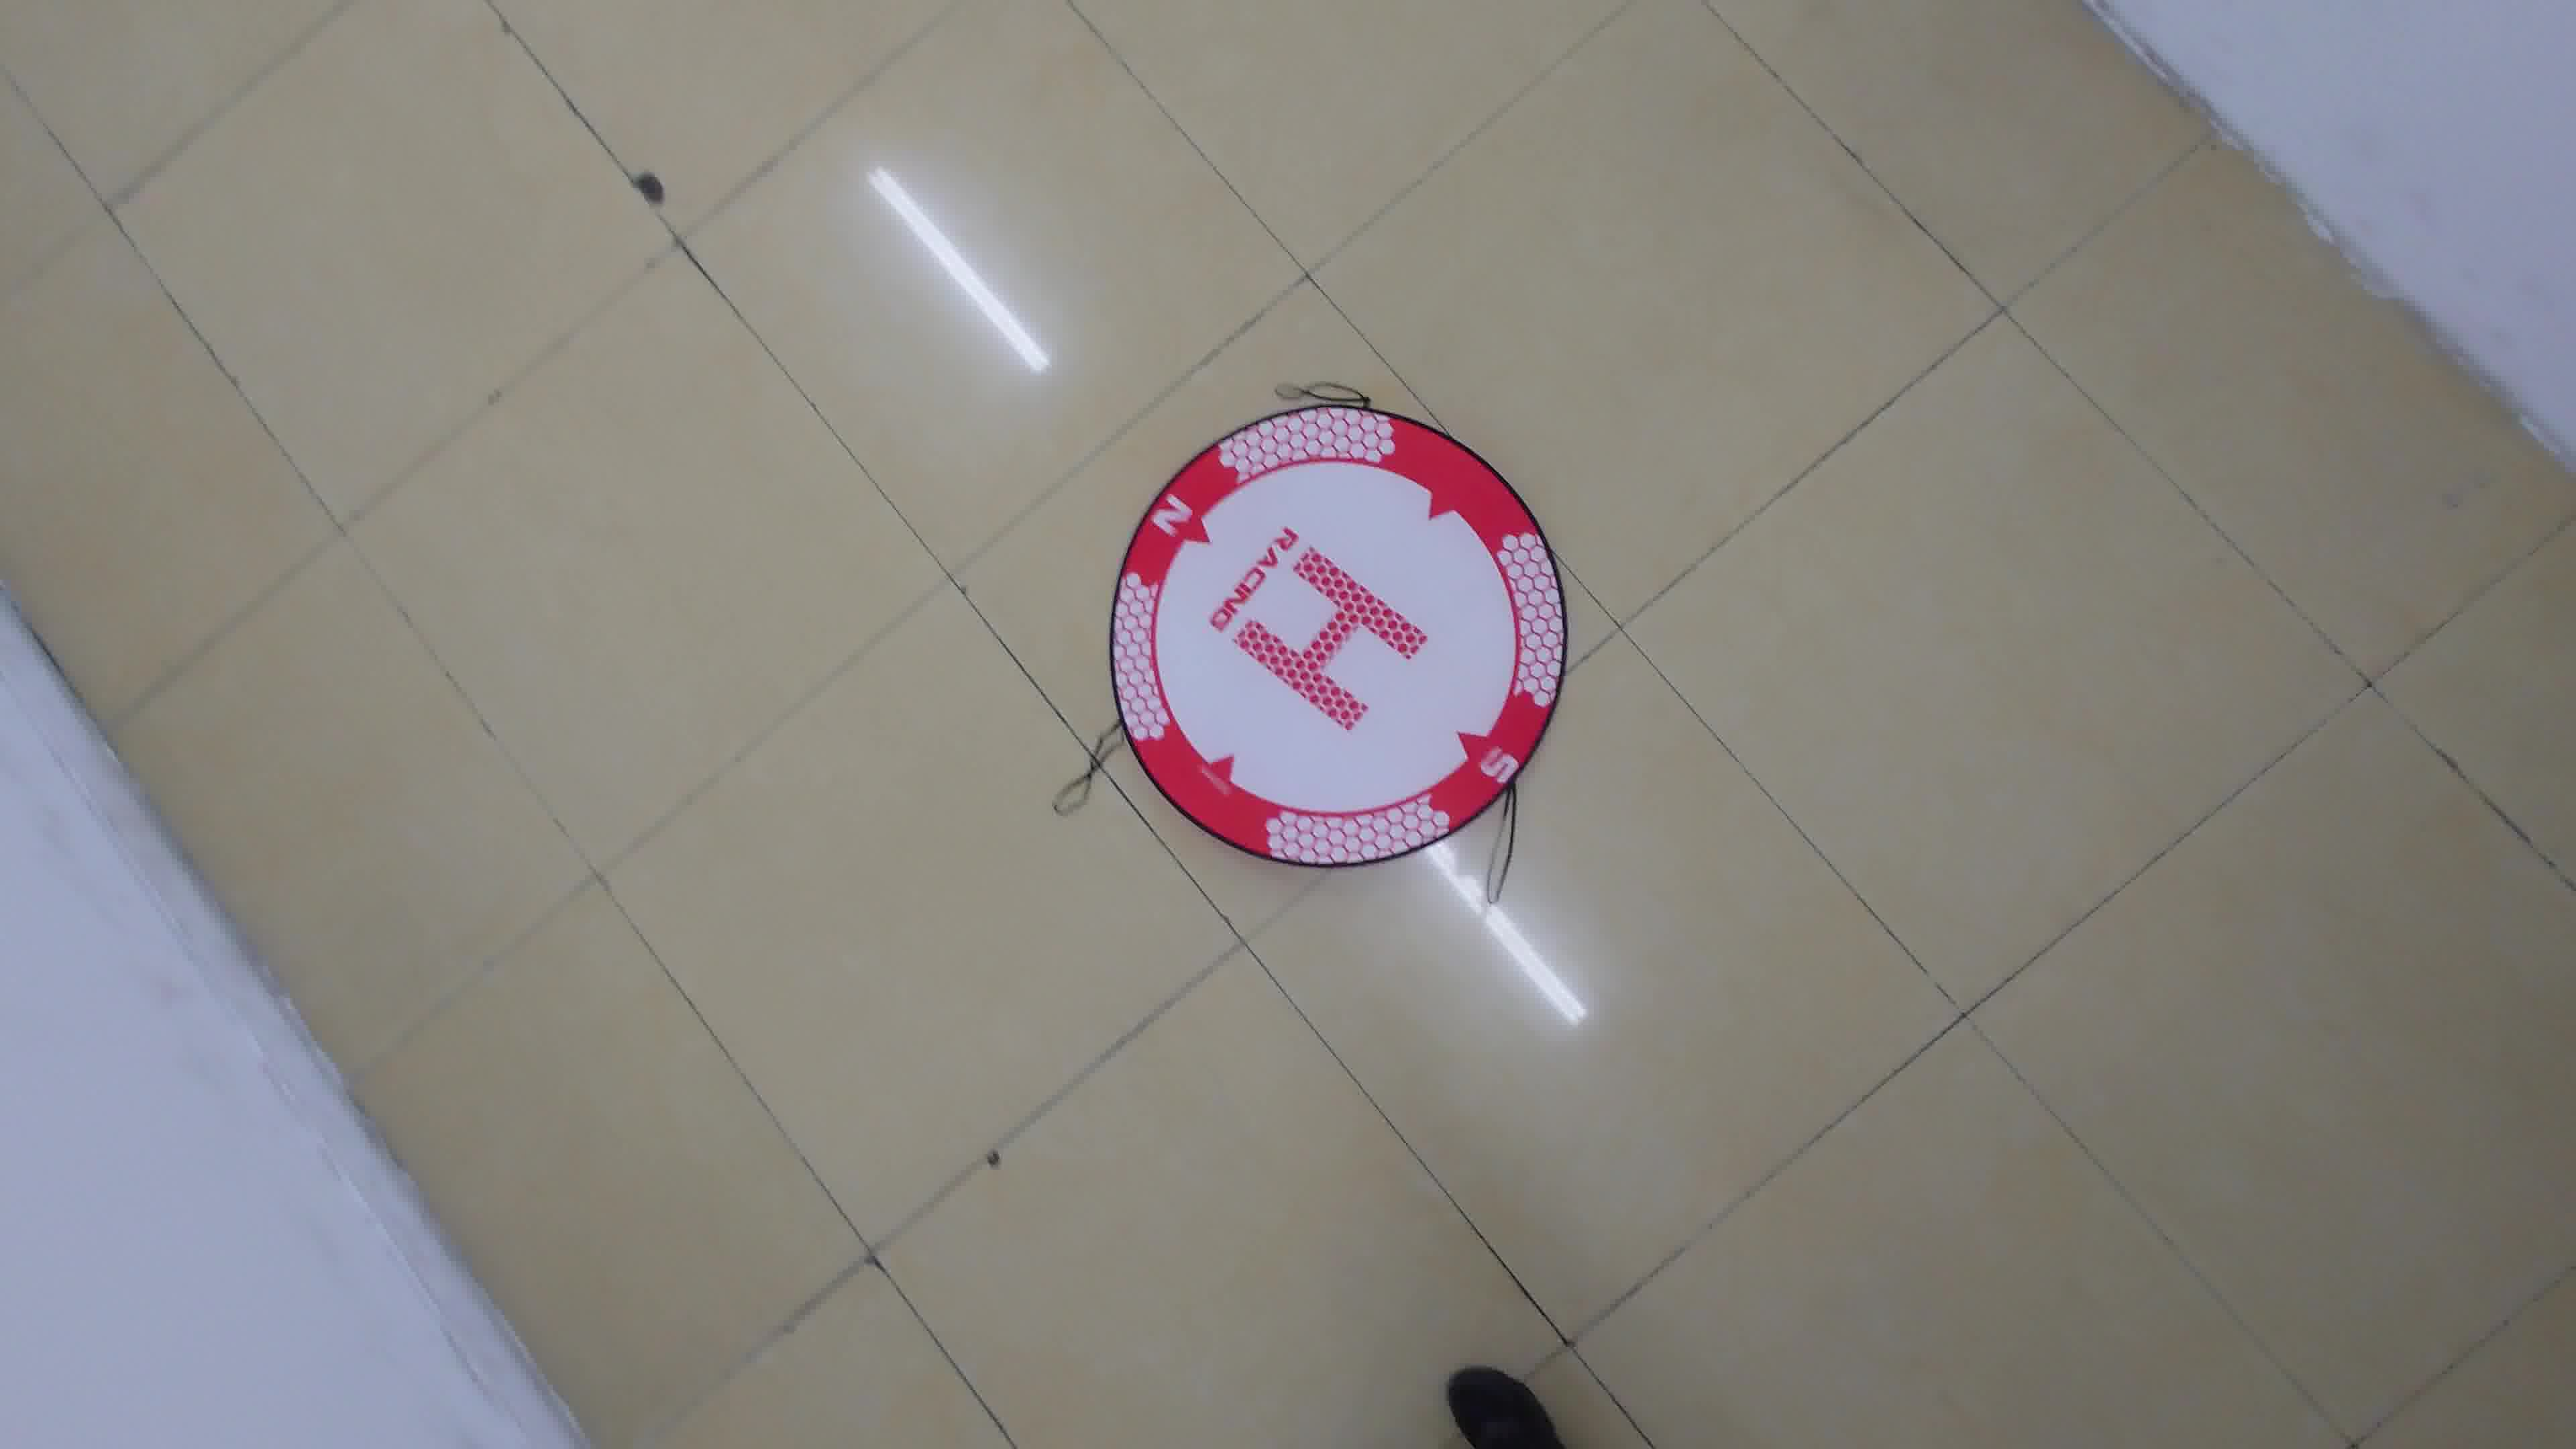H: (1233, 545, 1428, 731)
